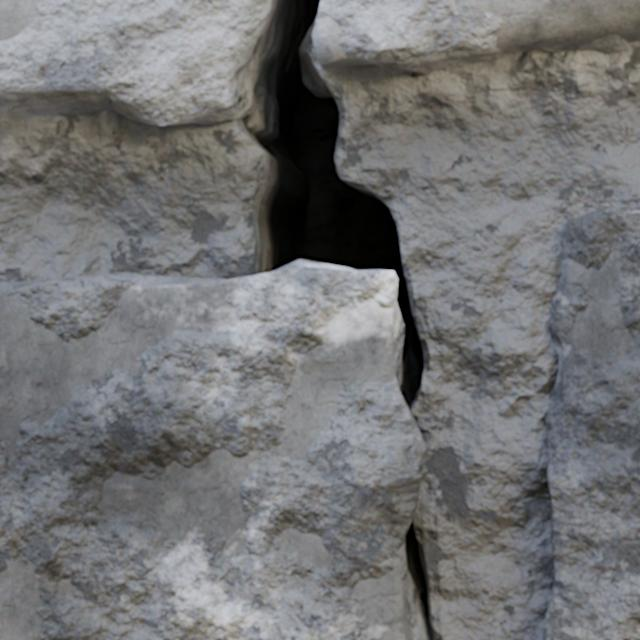broken_brick: (0, 0, 266, 125), (312, 0, 639, 73)
crack: (0, 0, 433, 639), (542, 211, 639, 639)
